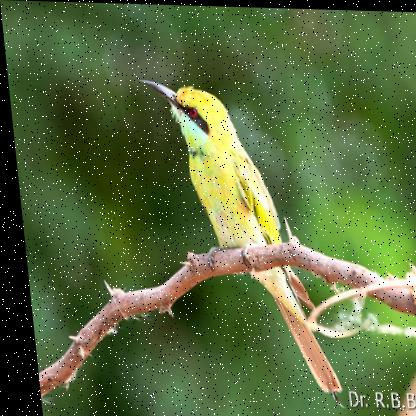Burung: (137, 76, 333, 392)
